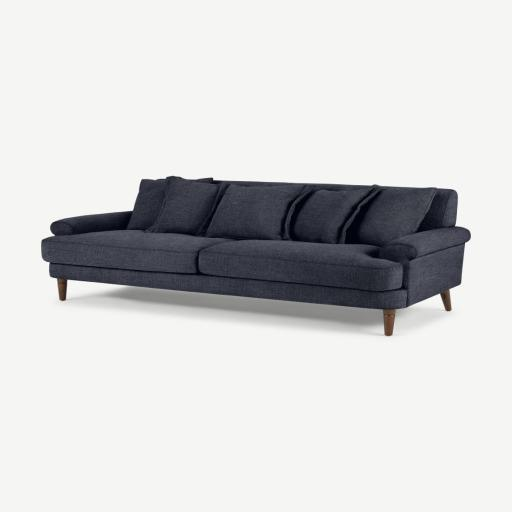back_cushion: (149, 177, 377, 243)
base: (50, 264, 406, 309)
left_arm: (404, 245, 464, 306)
legs: (383, 310, 396, 336), (57, 279, 67, 301), (440, 290, 450, 311)
right_arm: (51, 212, 131, 235)
seat_cushion: (42, 230, 400, 290)
two-seater: (0, 0, 511, 512)
